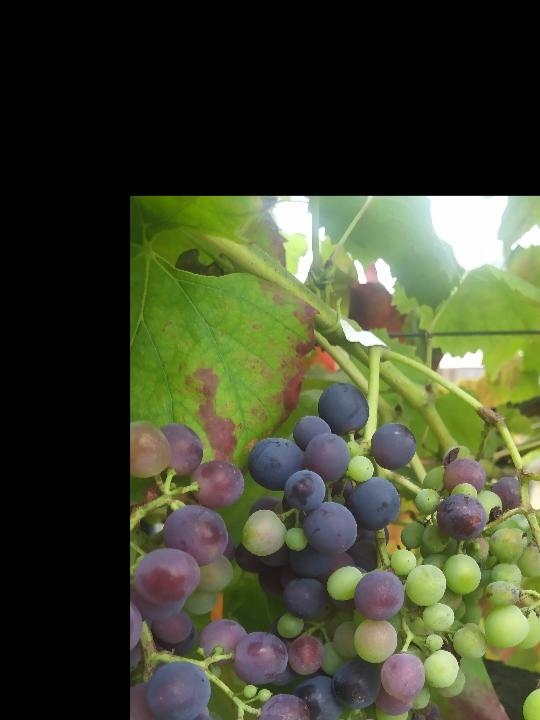grape: (238, 379, 470, 720), (435, 443, 540, 720)
